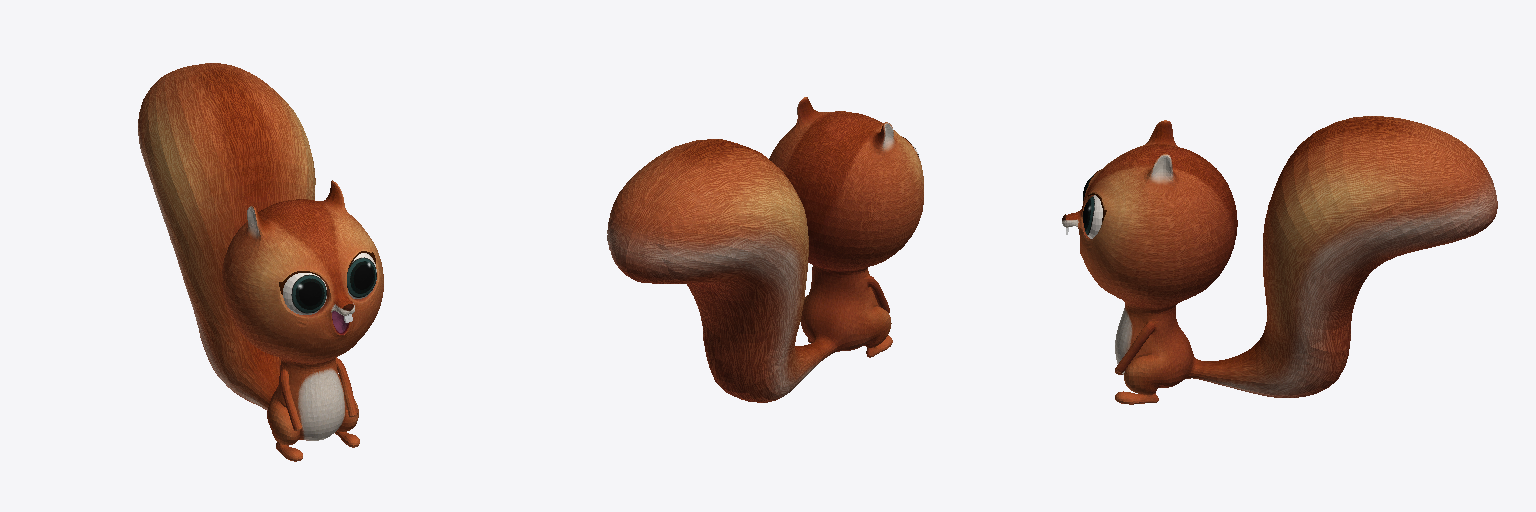
3 views of the same model, side by side, from view 1: azimuth 30°, elevation 25°; view 2: azimuth 150°, elevation 25°; view 3: azimuth 270°, elevation 25° (orthographic).
Parts seen in each view (by area): view 1: node_id5; view 2: node_id5; view 3: node_id5.
Part boxes in pixels (bbox=[...]): node_id5: bbox=[138, 63, 383, 461]; node_id5: bbox=[607, 97, 923, 402]; node_id5: bbox=[1062, 116, 1497, 404].
Size of the model in its own units: 0.1274 by 0.2016 by 0.2856.
Materials: 1 (1 with a texture image).